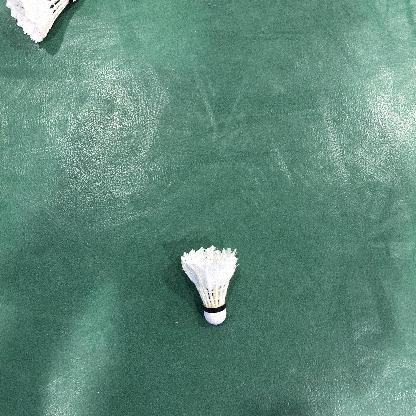ball_single: (180, 245, 237, 324), (6, 0, 77, 43)
